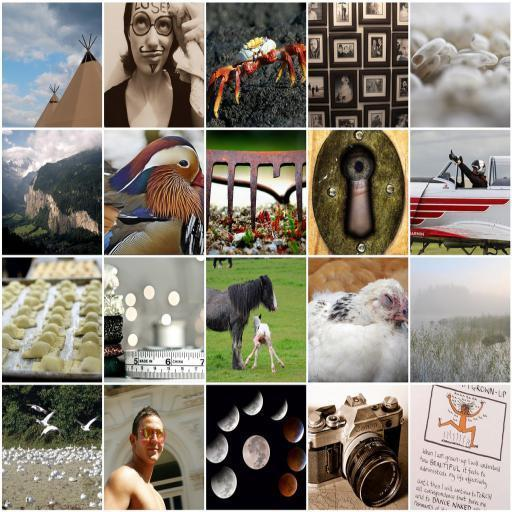horse: (204, 274, 278, 372), (244, 314, 286, 372)
